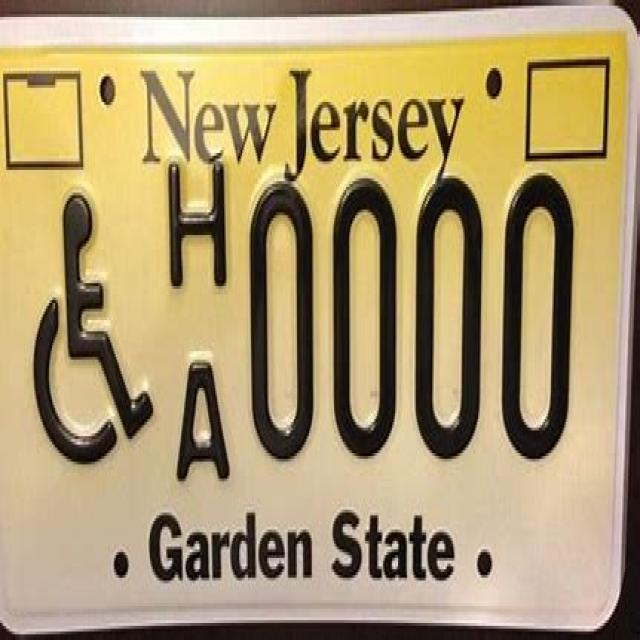car-handicap-placard: (33, 193, 157, 467)
